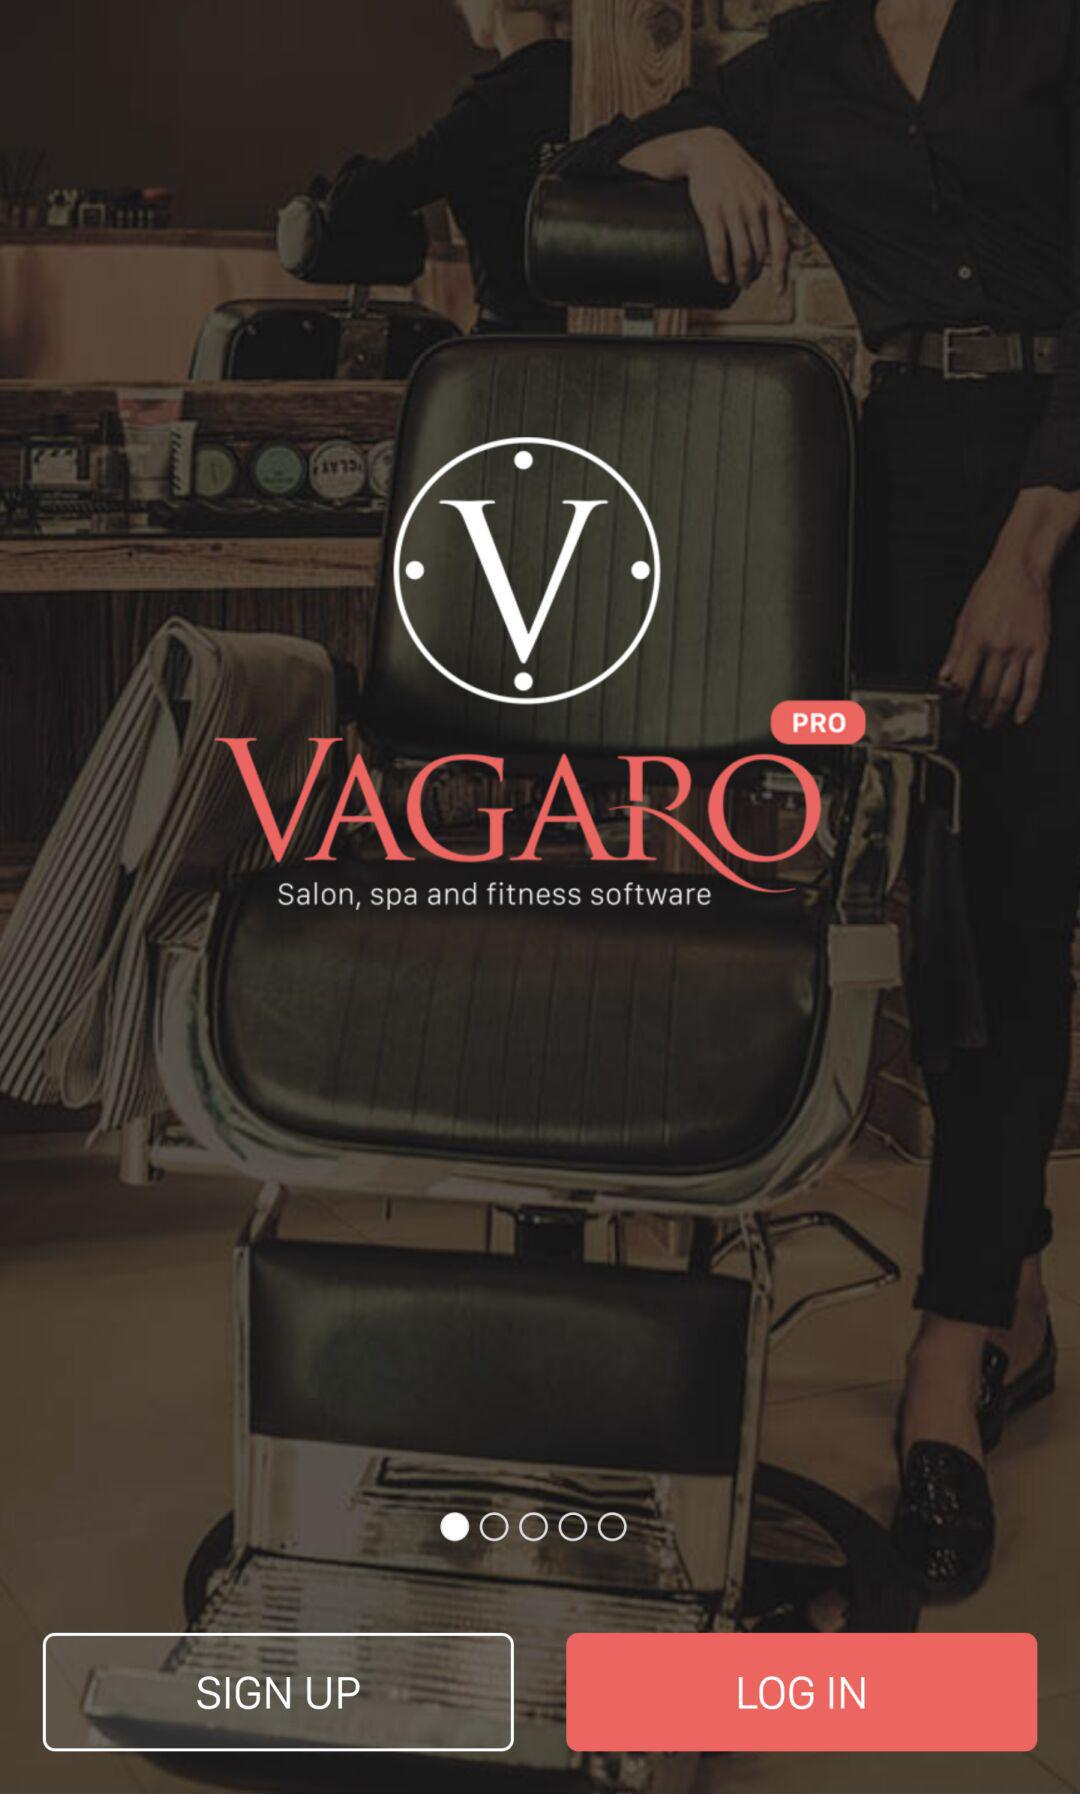BackgroundImage: (1, 3, 1080, 1794)
Image: (213, 431, 867, 911)
PageIndicator: (439, 1510, 629, 1544)
TextButton: (44, 1633, 516, 1753), (566, 1633, 1038, 1752)
